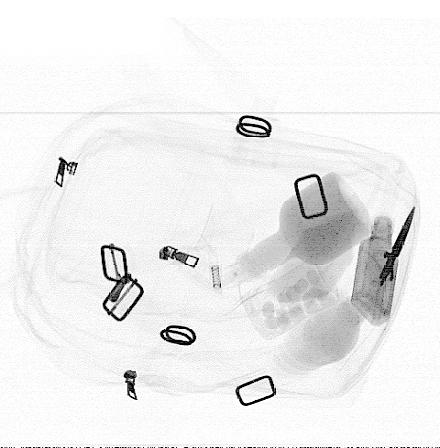Scissors: (362, 202, 416, 316)
